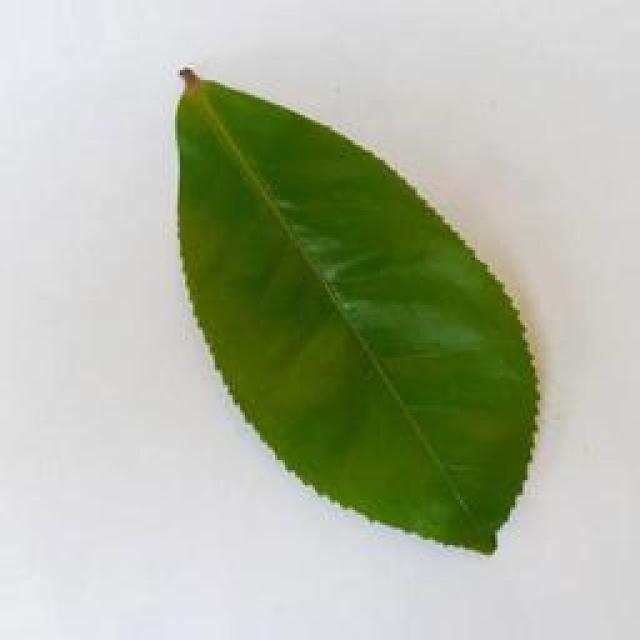Healthy: (160, 51, 552, 565)
